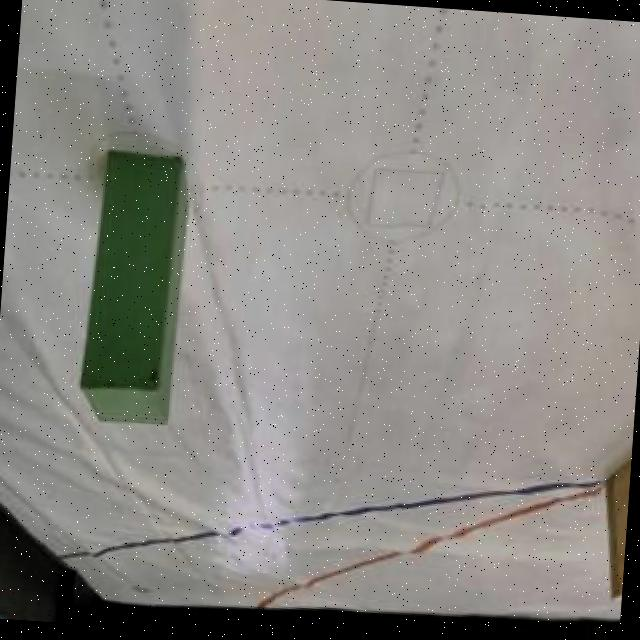greenbox: (73, 147, 192, 431)
